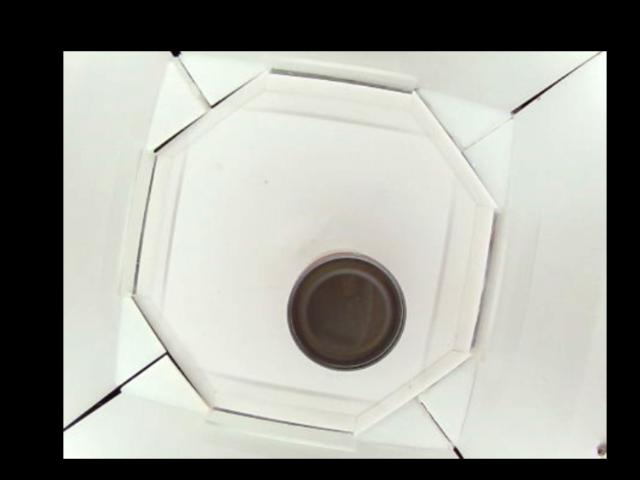Bottle: (286, 250, 407, 371)
